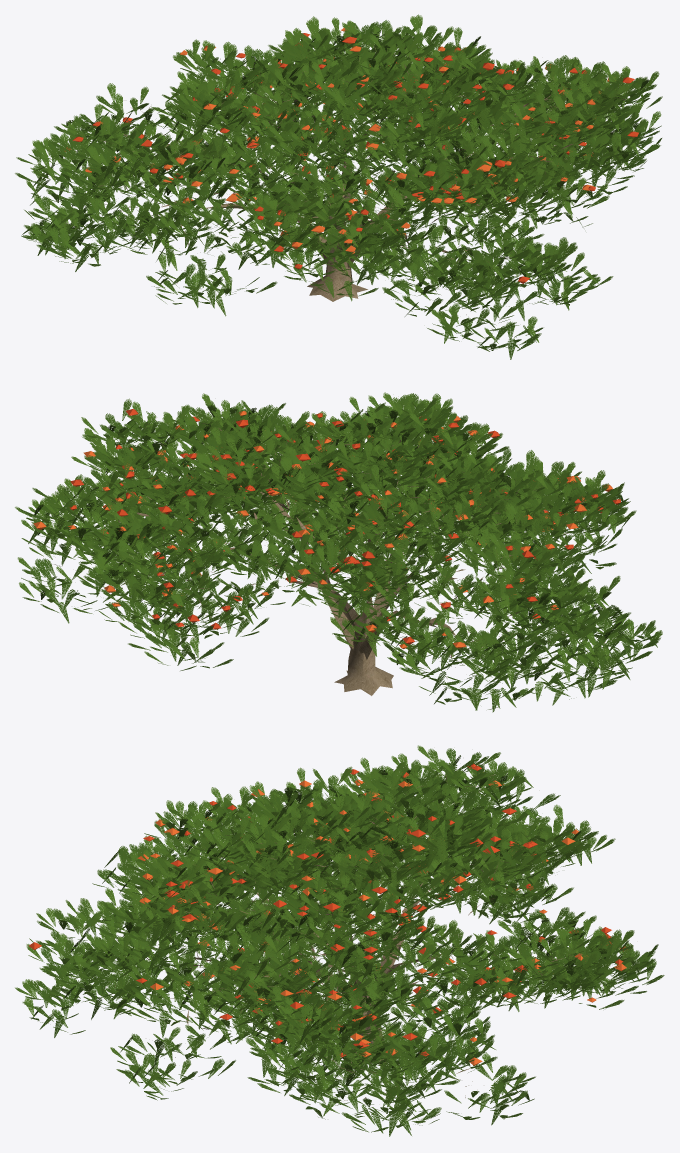
File: flamboyant.glb
The picture shows the model from 3 angles, top to bottom: view 1: azimuth 30°, elevation 25°; view 2: azimuth 150°, elevation 25°; view 3: azimuth 270°, elevation 25°; orthographic projection. The views are drawn at different scales.
Parts seen in each view (by area): view 1: flamboyant-base, FLAMBOYANT_FLOR; view 2: flamboyant-base, FLAMBOYANT_FLOR; view 3: flamboyant-base, FLAMBOYANT_FLOR.
Part boxes in pixels (x1,y1,x2,y2): flamboyant-base: (15,14,662,359); FLAMBOYANT_FLOR: (65,26,638,283); flamboyant-base: (15,392,662,712); FLAMBOYANT_FLOR: (33,409,620,648); flamboyant-base: (15,745,664,1136); FLAMBOYANT_FLOR: (29,763,627,1065).
Size of the model in its own units: 27.88 by 10.63 by 23.66.
7 materials, 5 textured.
